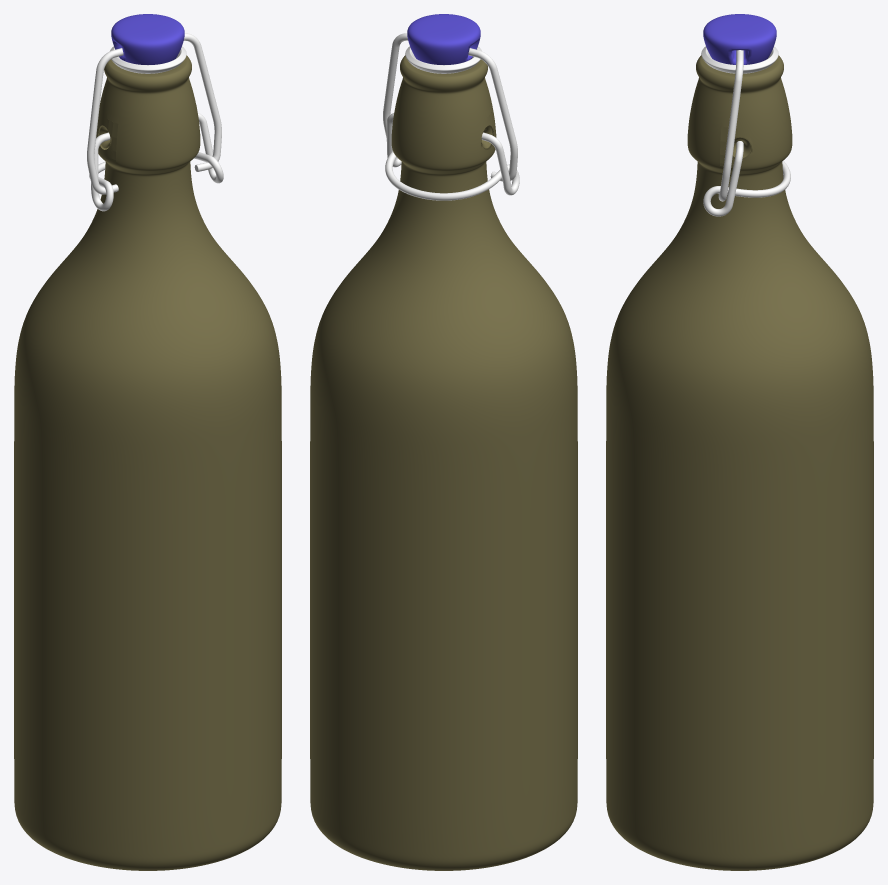
Rendered from botella.glb.
3 renders of one model, left to right at view 1: azimuth 30°, elevation 25°; view 2: azimuth 150°, elevation 25°; view 3: azimuth 270°, elevation 25°, orthographic.
Visible parts, largest first — view 1: 10 Bottle .001, 10 Bottle .011, 10 Bottle .009, 10 Bottle .008, 10 Bottle .010; view 2: 10 Bottle .001, 10 Bottle .011, 10 Bottle .008, 10 Bottle .009, 10 Bottle .010; view 3: 10 Bottle .001, 10 Bottle .011, 10 Bottle .008, 10 Bottle .009, 10 Bottle .010.
Part boxes in pixels (box(x1,y1,x2,y2)): 10 Bottle .001: box(14, 55, 281, 870); 10 Bottle .011: box(111, 14, 184, 64); 10 Bottle .009: box(87, 33, 221, 194); 10 Bottle .008: box(89, 113, 223, 211); 10 Bottle .010: box(110, 46, 186, 73); 10 Bottle .001: box(310, 55, 577, 870); 10 Bottle .011: box(407, 14, 480, 64); 10 Bottle .008: box(385, 113, 519, 200); 10 Bottle .009: box(383, 33, 517, 181); 10 Bottle .010: box(405, 46, 481, 73); 10 Bottle .001: box(606, 55, 873, 870); 10 Bottle .011: box(703, 14, 776, 64); 10 Bottle .008: box(703, 141, 790, 216); 10 Bottle .009: box(718, 50, 743, 201); 10 Bottle .010: box(701, 46, 778, 73).
Bounding box in the file's own units: 0.7783 × 2.55 × 0.7783.
